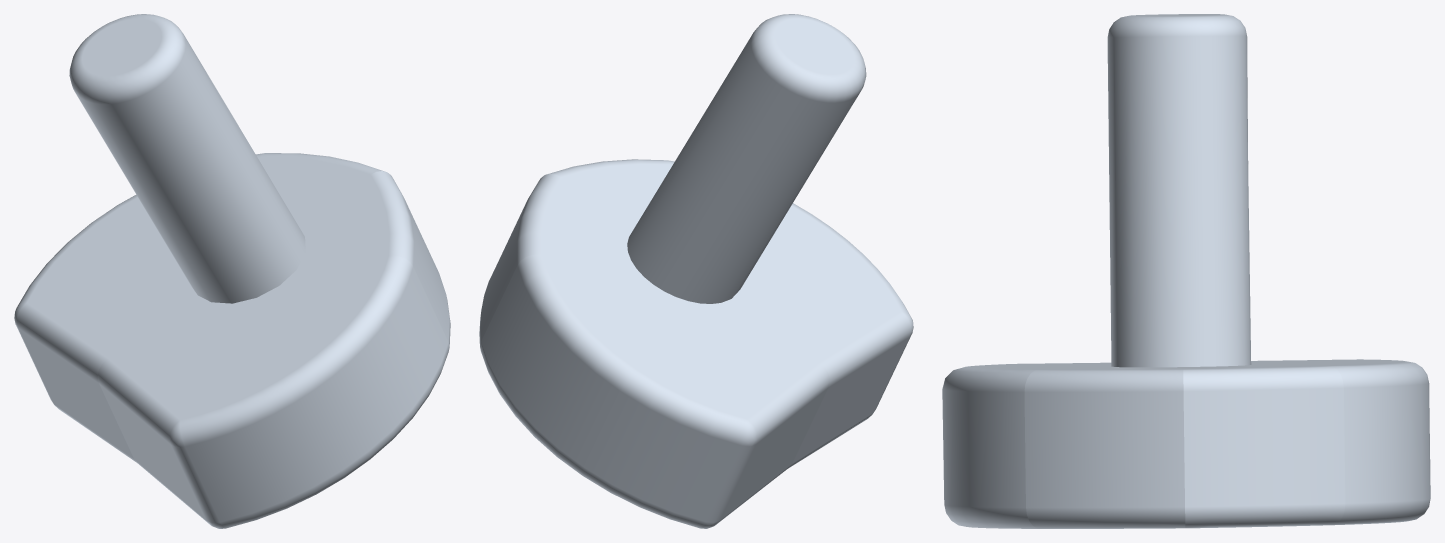
The model's file is RB-019_viewer.glb.
3 views of the same model, side by side, from view 1: azimuth 30°, elevation 25°; view 2: azimuth 150°, elevation 25°; view 3: azimuth 270°, elevation 25° (orthographic). The views are drawn at different scales.
Parts seen in each view (by area): view 1: basebody_imported1; view 2: basebody_imported1; view 3: basebody_imported1.
Part boxes in pixels (x1,y1,x2,y2): basebody_imported1: [14, 14, 450, 528]; basebody_imported1: [479, 14, 913, 528]; basebody_imported1: [942, 14, 1430, 528].
Size of the model in its own units: 0.00842 by 0.0102 by 0.00889.
